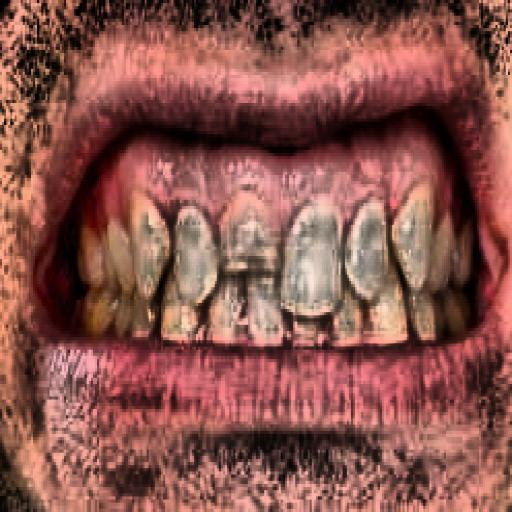Gingivitis: (86, 110, 478, 234)
